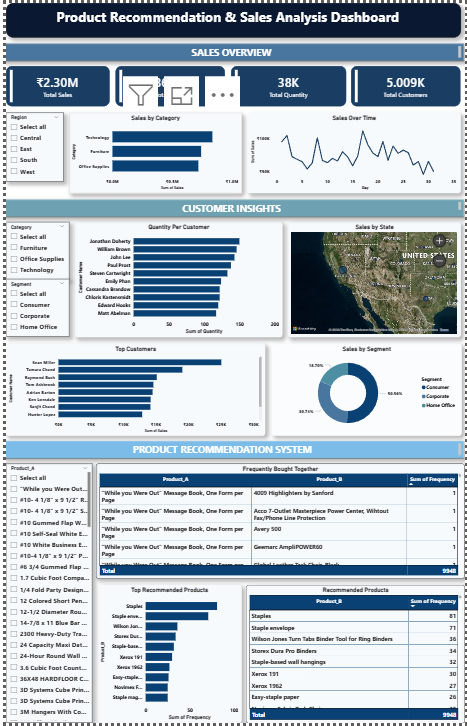

What the dashboard file says about the page in this screenshot:
{"tool":"powerbi","page":{"name":"Page 1","canvas":[1273,2000],"ordinal":0},"visuals":[{"type":"cardVisual","fields":{"Data":["Sum(cleaned_data_superstore.Sales)"]},"box":[0,176,288,112],"z":0},{"type":"cardVisual","fields":{"Data":["Sum(cleaned_data_superstore.Profit)"]},"box":[304,176,304,112],"z":1000},{"type":"cardVisual","fields":{"Data":["Sum(cleaned_data_superstore.Quantity)"]},"box":[624,176,320,112],"z":2000},{"type":"cardVisual","fields":{"Data":["Count(cleaned_data_superstore.Order ID)"]},"box":[960,176,304,112],"z":3000},{"type":"clusteredBarChart","title":"Sales by Category","fields":{"Category":["cleaned_data_superstore.Category"],"Y":["Sum(cleaned_data_superstore.Sales)"]},"box":[168,312,480,216],"z":4000},{"type":"lineChart","title":"Sales Over Time","fields":{"Y":["Sum(cleaned_data_superstore.Sales)"],"Category":["cleaned_data_superstore.Order Date.Variation.Date Hierarchy.Day"]},"box":[672,304,592,224],"z":5000},{"type":"clusteredBarChart","title":"Top Customers","fields":{"Category":["cleaned_data_superstore.Customer Name"],"Y":["Sum(cleaned_data_superstore.Sales)"]},"box":[0,944,720,256],"z":6000},{"type":"donutChart","title":"Sales by Segment","fields":{"Y":["Sum(cleaned_data_superstore.Sales)"],"Category":["cleaned_data_superstore.Segment"]},"box":[736,944,528,256],"z":7000},{"type":"map","title":"Sales by State","fields":{"Category":["cleaned_data_superstore.State"],"Size":["Sum(cleaned_data_superstore.Sales)"]},"box":[784,608,480,320],"z":8000},{"type":"clusteredBarChart","title":"Quantity Per Customer","fields":{"Category":["cleaned_data_superstore.Customer Name"],"Y":["Sum(cleaned_data_superstore.Quantity)"]},"box":[192,608,576,320],"z":9000},{"type":"tableEx","title":"Frequently Bought Together","fields":{"Values":["Query1.Product_A","Query1.Product_B","Sum(Query1.Frequency)"]},"box":[249,1280,1024,320],"z":10000},{"type":"clusteredBarChart","title":"Top Recommended Products ","fields":{"Category":["Query1.Product_B"],"Y":["Sum(Query1.Frequency)"]},"box":[256,1616,400,384],"z":11000},{"type":"tableEx","title":"Recommended Products","fields":{"Values":["Query1.Product_B","Sum(Query1.Frequency)"]},"box":[665,1616,608,384],"z":12000},{"type":"slicer","fields":{"Values":["Query1.Product_A"]},"box":[0,1280,240,720],"z":13000},{"type":"textbox","box":[-7,1216,1280,48],"z":14000},{"type":"textbox","box":[-7,544,1280,48],"z":15000},{"type":"textbox","box":[0,0,1264,96],"z":16000},{"type":"slicer","fields":{"Values":["cleaned_data_superstore.Category"]},"box":[0,608,176,160],"z":17000},{"type":"slicer","fields":{"Values":["cleaned_data_superstore.Region"]},"box":[0,304,160,192],"z":18000},{"type":"textbox","box":[-7,112,1280,48],"z":19000},{"type":"slicer","fields":{"Values":["cleaned_data_superstore.Segment"]},"box":[0,768,176,160],"z":20000}]}

Visuals, with their boxes in screenshot pixels (x1, y1, x2, y2), scaled from the page's 1273x2000 canvas onto the 467x726 screenshot:
cardVisual - Sum(cleaned_data_superstore.Sales): 0,64,106,105
cardVisual - Sum(cleaned_data_superstore.Profit): 112,64,223,105
cardVisual - Sum(cleaned_data_superstore.Quantity): 229,64,346,105
cardVisual - Count(cleaned_data_superstore.Order ID): 352,64,464,105
"Sales by Category" clusteredBarChart: 62,113,238,192
"Sales Over Time" lineChart: 247,110,464,192
"Top Customers" clusteredBarChart: 0,343,264,436
"Sales by Segment" donutChart: 270,343,464,436
"Sales by State" map: 288,221,464,337
"Quantity Per Customer" clusteredBarChart: 70,221,282,337
"Frequently Bought Together" tableEx: 91,465,466,581
"Top Recommended Products " clusteredBarChart: 94,587,241,725
"Recommended Products" tableEx: 244,587,466,725
slicer - Query1.Product_A: 0,465,88,725
textbox: 0,441,466,459
textbox: 0,197,466,215
textbox: 0,0,464,35
slicer - cleaned_data_superstore.Category: 0,221,65,279
slicer - cleaned_data_superstore.Region: 0,110,59,180
textbox: 0,41,466,58
slicer - cleaned_data_superstore.Segment: 0,279,65,337
